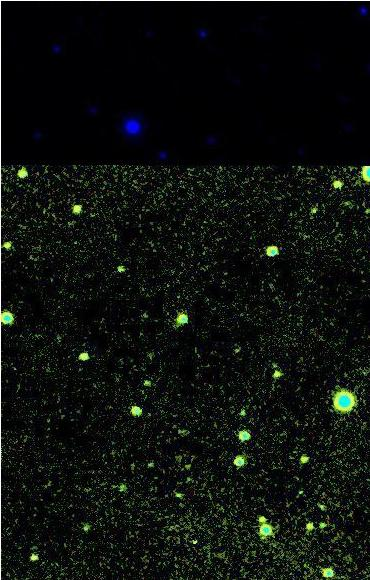star: (175, 525, 205, 555)
